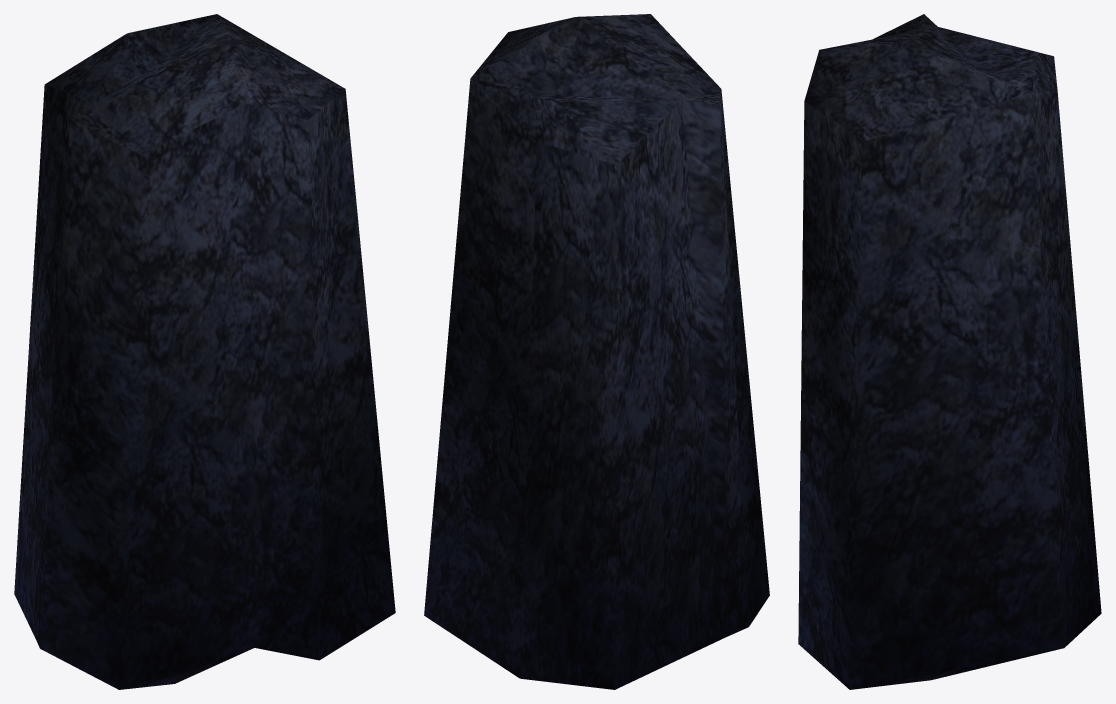
The model's file is WaterRockBroken.gltf.
3 renders of one model, left to right at view 1: azimuth 30°, elevation 25°; view 2: azimuth 150°, elevation 25°; view 3: azimuth 270°, elevation 25°, orthographic.
Visible parts, largest first — view 1: WaterRockBroken; view 2: WaterRockBroken; view 3: WaterRockBroken.
Boxes of the visible parts, box(x1,y1,x2,y2) form: WaterRockBroken: box(14, 14, 395, 689); WaterRockBroken: box(424, 14, 769, 689); WaterRockBroken: box(798, 14, 1101, 689).
Size of the model in its own units: 2.42 by 4.72 by 2.
1 material, 1 textured.
